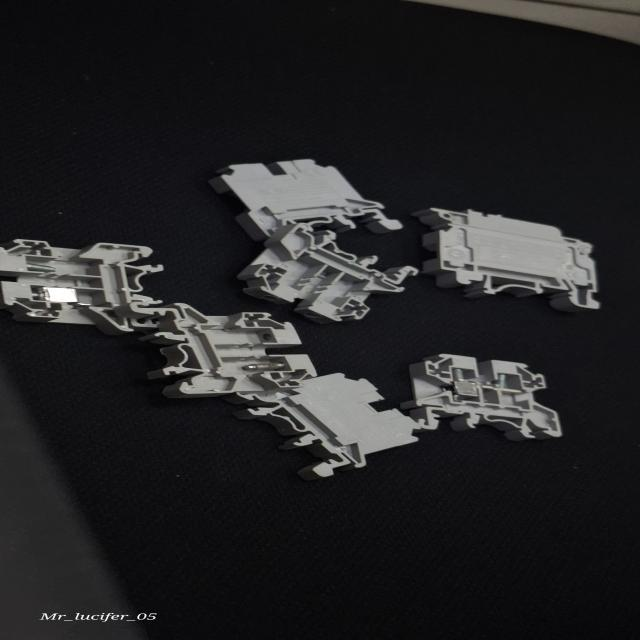Inverted: (244, 373, 421, 478), (215, 160, 408, 242)
Reject: (229, 222, 407, 321), (142, 302, 320, 396), (0, 232, 163, 334), (408, 352, 569, 440)
